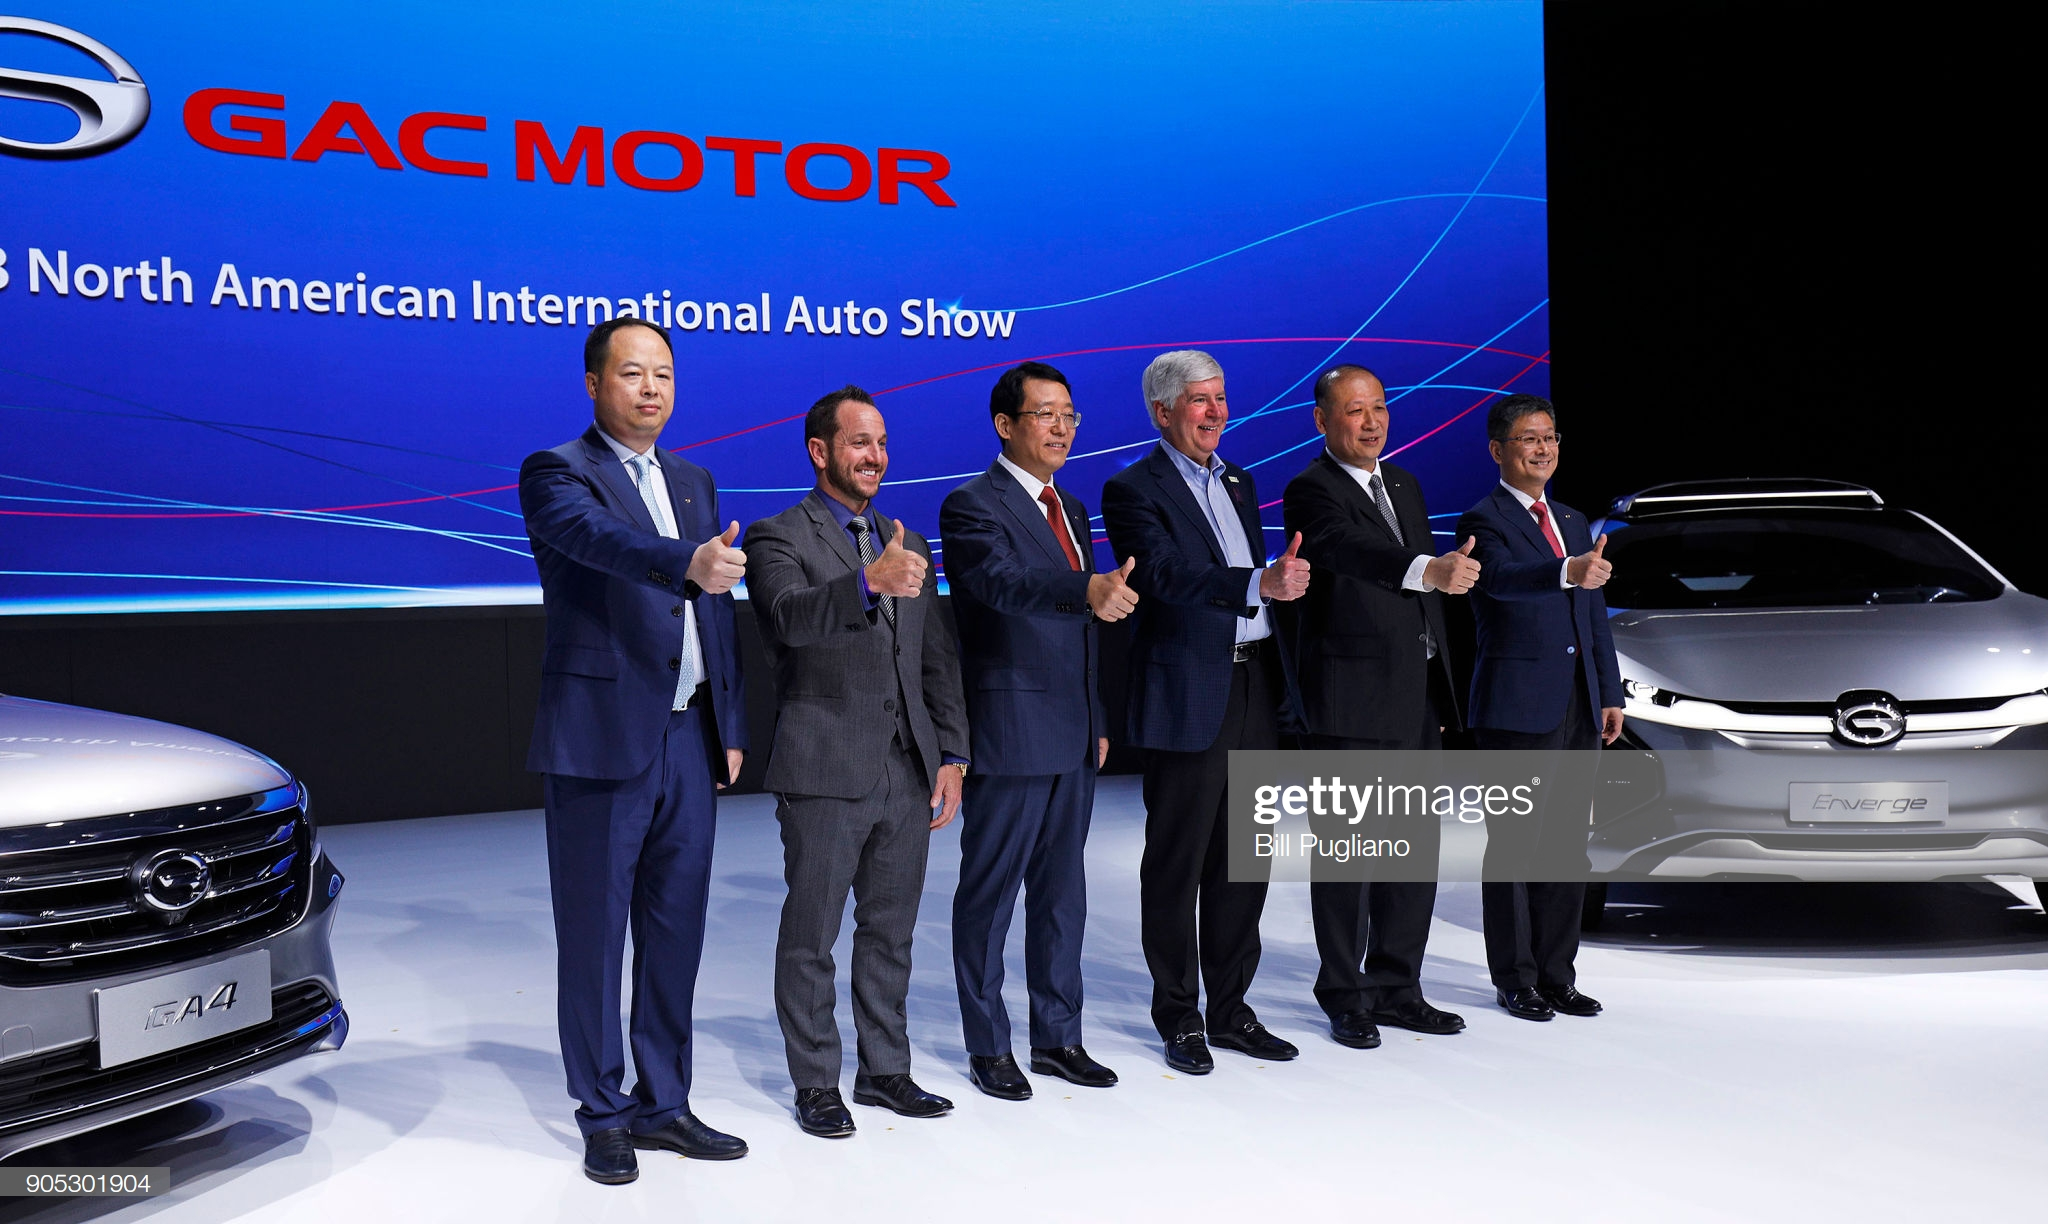thumbsup: (706, 517, 749, 595), (891, 517, 929, 597), (1098, 557, 1139, 622), (1277, 529, 1311, 600), (1446, 533, 1481, 595), (1579, 532, 1612, 589)
